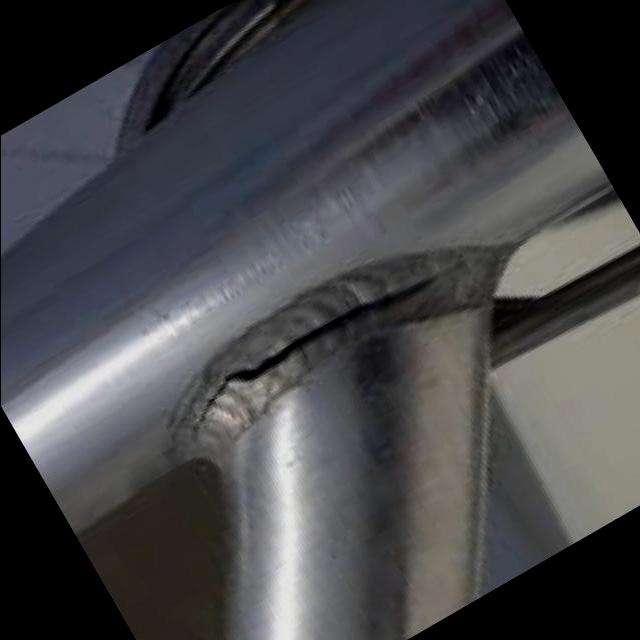defect: (186, 258, 481, 445)
